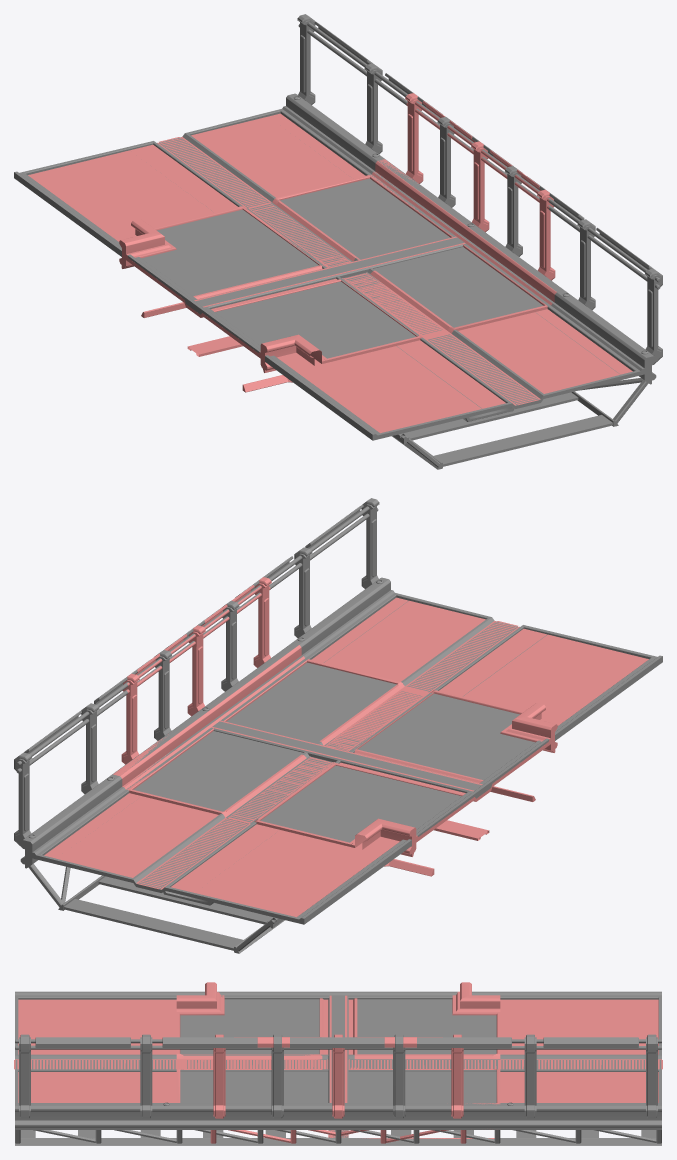
File: SafeTWalkway3.fbx
3 views of the same model, one above another, from view 1: azimuth 30°, elevation 25°; view 2: azimuth 150°, elevation 25°; view 3: azimuth 270°, elevation 25° (orthographic). The views are drawn at different scales.
Visible parts, largest first — view 1: Walkway_Straight, Walkway_T; view 2: Walkway_Straight, Walkway_T; view 3: Walkway_Straight, Walkway_T.
Boxes of the visible parts, <box> form: Walkway_Straight: <box>14,14,662,469</box>; Walkway_T: <box>119,93,556,392</box>; Walkway_Straight: <box>14,498,662,953</box>; Walkway_T: <box>113,577,557,876</box>; Walkway_Straight: <box>14,991,662,1145</box>; Walkway_T: <box>176,982,500,1143</box>.
Size of the model in its own units: 378 by 174 by 802.
